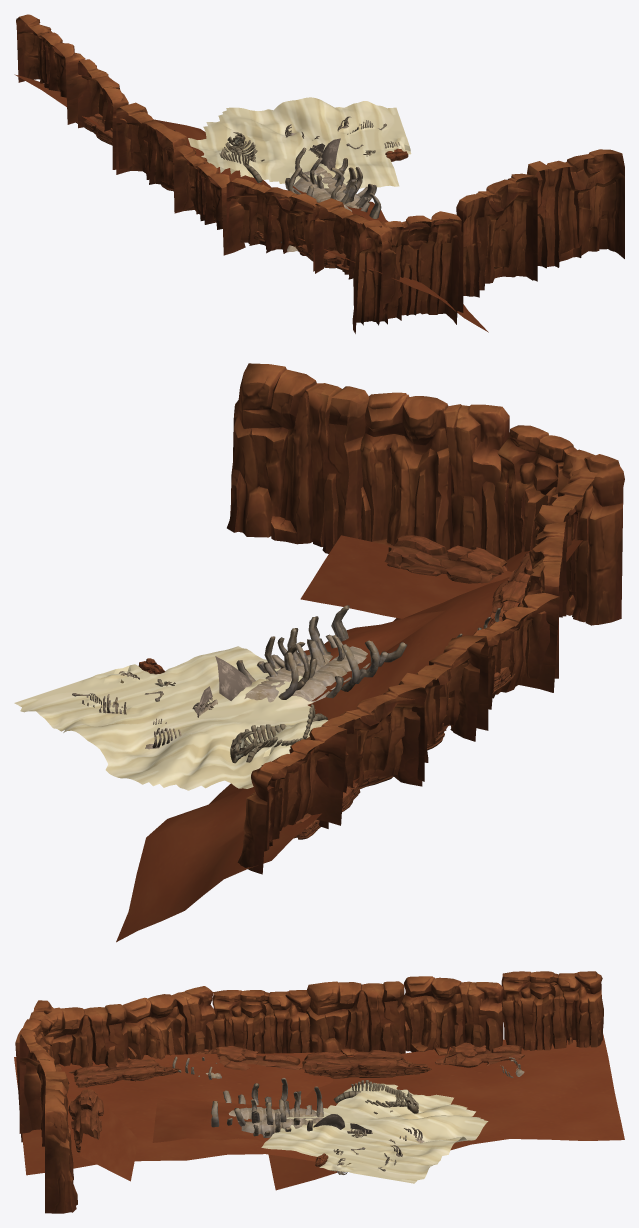
Rendered from env_geo_boneyard_01_pre.glb.
3 renders of one model, top to bottom at view 1: azimuth 30°, elevation 25°; view 2: azimuth 150°, elevation 25°; view 3: azimuth 270°, elevation 25°, orthographic. The views are drawn at different scales.
Visible parts, largest first — view 1: geo_boneyard_ground_01_mesh, geo_rockwall_01b_mesh (7), geo_rockwall_01a_mesh (8), geo_rockwall_01c_mesh (8), geo_rockwall_01c_mesh (7), geo_rockwall_01b_mesh (5), geo_rockwall_01a_mesh (6), geo_rockwall_01b_mesh (6), geo_rockwall_01a_mesh (7), geo_rockwall_01c_mesh (6), geo_bones_01c_mesh, geo_bones_01b_mesh (+5 smaller); view 2: geo_boneyard_ground_01_mesh, geo_rockwall_01b_mesh (7), geo_rockwall_01c_mesh (8), geo_rockwall_01a_mesh (8), ground_hill_mesh (8), geo_rockwall_01a_mesh (6), ground_hill_mesh (10), ground_hill_mesh (7), geo_rockwall_01a_mesh (7), geo_rockwall_01c_mesh (6), geo_rockwall_01b_mesh (5), geo_bones_01c_mesh (+8 smaller); view 3: ground_hill_mesh (8), ground_hill_mesh (7), geo_boneyard_ground_01_mesh, geo_rockwall_01a_mesh (6), geo_rockwall_01c_mesh (6), geo_rockwall_01b_mesh (5), geo_rockwall_01a_mesh (7), geo_rockwall_01c_mesh (7), geo_rockwall_01b_mesh (6), geo_rockwall_01b_mesh (7), ground_hill_mesh (9), geo_rock_03_mesh (35) (+10 smaller).
Boxes of the visible parts, x1,y1,x2,y2 form: geo_boneyard_ground_01_mesh: [188, 97, 411, 188]; geo_rockwall_01b_mesh (7): [525, 149, 624, 280]; geo_rockwall_01a_mesh (8): [352, 211, 461, 333]; geo_rockwall_01c_mesh (8): [447, 173, 539, 312]; geo_rockwall_01c_mesh (7): [226, 178, 324, 273]; geo_rockwall_01b_mesh (5): [116, 102, 193, 211]; geo_rockwall_01a_mesh (6): [16, 14, 87, 124]; geo_rockwall_01b_mesh (6): [313, 198, 402, 304]; geo_rockwall_01a_mesh (7): [172, 145, 245, 255]; geo_rockwall_01c_mesh (6): [78, 59, 132, 169]; geo_bones_01c_mesh: [285, 167, 381, 218]; geo_bones_01b_mesh: [295, 147, 376, 208]; geo_boneyard_ground_01_mesh: [14, 646, 328, 790]; geo_rockwall_01b_mesh (7): [227, 363, 369, 553]; geo_rockwall_01c_mesh (8): [360, 392, 509, 556]; geo_rockwall_01a_mesh (8): [493, 425, 624, 625]; ground_hill_mesh (8): [116, 771, 366, 942]; geo_rockwall_01a_mesh (6): [237, 725, 347, 874]; ground_hill_mesh (10): [300, 535, 512, 618]; ground_hill_mesh (7): [308, 539, 582, 720]; geo_rockwall_01a_mesh (7): [450, 593, 559, 741]; geo_rockwall_01c_mesh (6): [315, 684, 426, 828]; geo_rockwall_01b_mesh (5): [393, 635, 488, 786]; geo_bones_01c_mesh: [263, 605, 407, 702]; ground_hill_mesh (8): [268, 1034, 624, 1190]; ground_hill_mesh (7): [14, 1052, 353, 1175]; geo_boneyard_ground_01_mesh: [261, 1083, 488, 1183]; geo_rockwall_01a_mesh (6): [501, 971, 603, 1050]; geo_rockwall_01c_mesh (6): [401, 976, 503, 1055]; geo_rockwall_01b_mesh (5): [306, 981, 405, 1056]; geo_rockwall_01a_mesh (7): [212, 990, 310, 1053]; geo_rockwall_01c_mesh (7): [123, 986, 216, 1059]; geo_rockwall_01b_mesh (6): [30, 1004, 128, 1071]; geo_rockwall_01b_mesh (7): [45, 1071, 77, 1213]; ground_hill_mesh (9): [152, 1098, 305, 1142]; geo_rock_03_mesh (35): [302, 1050, 431, 1078].
Size of the model in its own units: 127 by 62.89 by 221.
11 materials, 11 textured.
